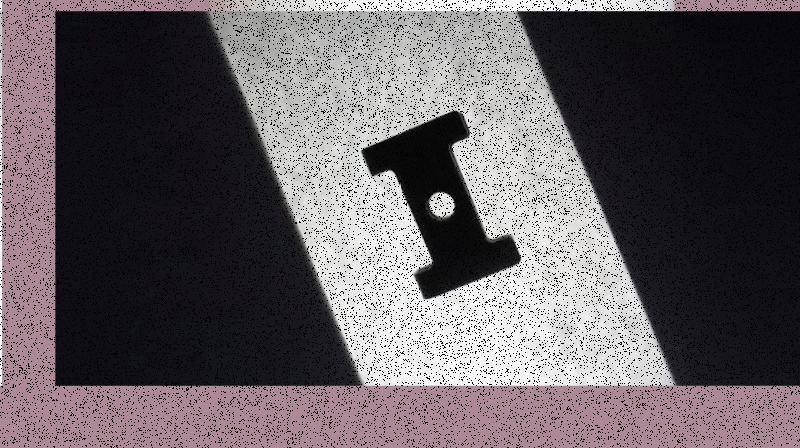O002: (356, 108, 523, 303)
